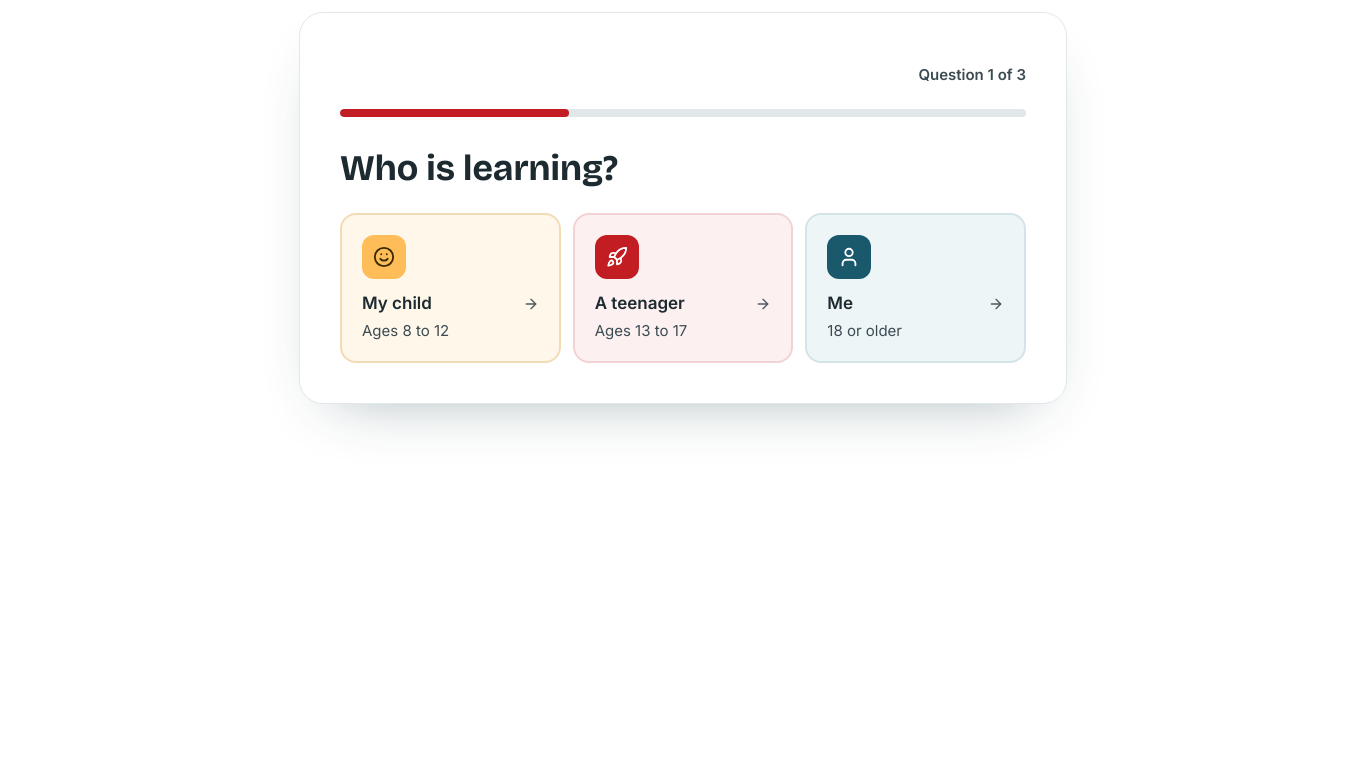
course finder › asks three questions, then links to the matching course's enrol section
Click the button "My child Ages 8 to 12": (450, 288) [340,213,561,363]
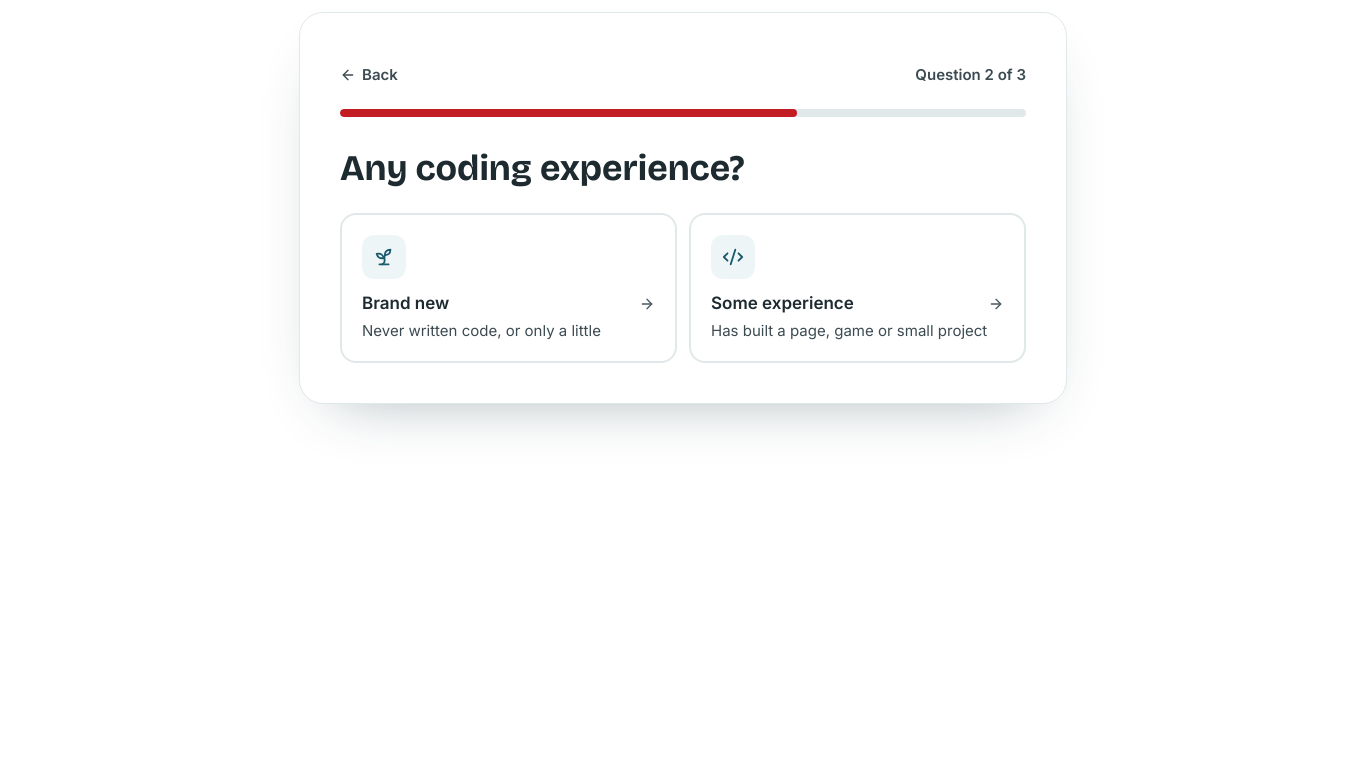
Check: the text "Any coding experience?" is shown, box [340,147,744,190]
Click the button "Brand new Never written code, or only a little": (384, 257) [340,213,677,363]
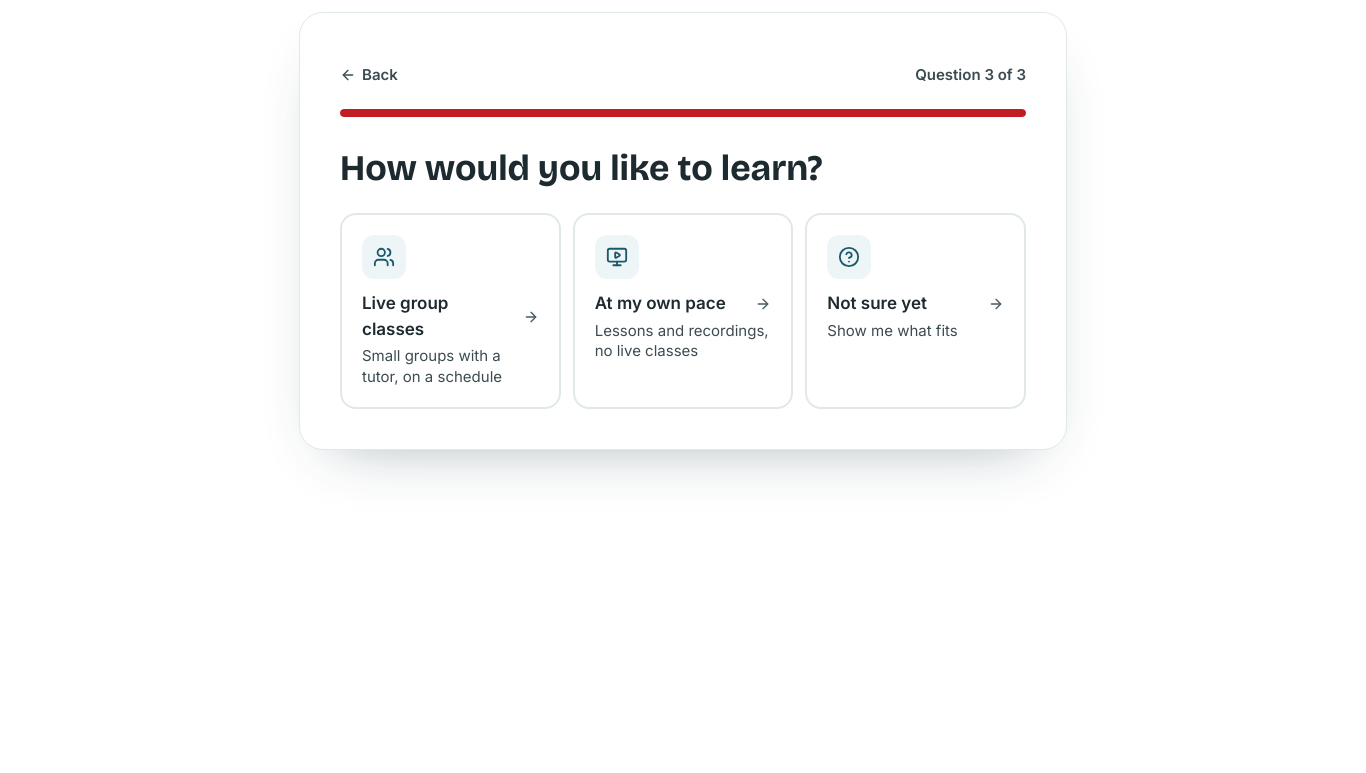
Click the button "Live group classes Small groups with a tutor, on a schedule": (450, 311) [340,213,561,409]
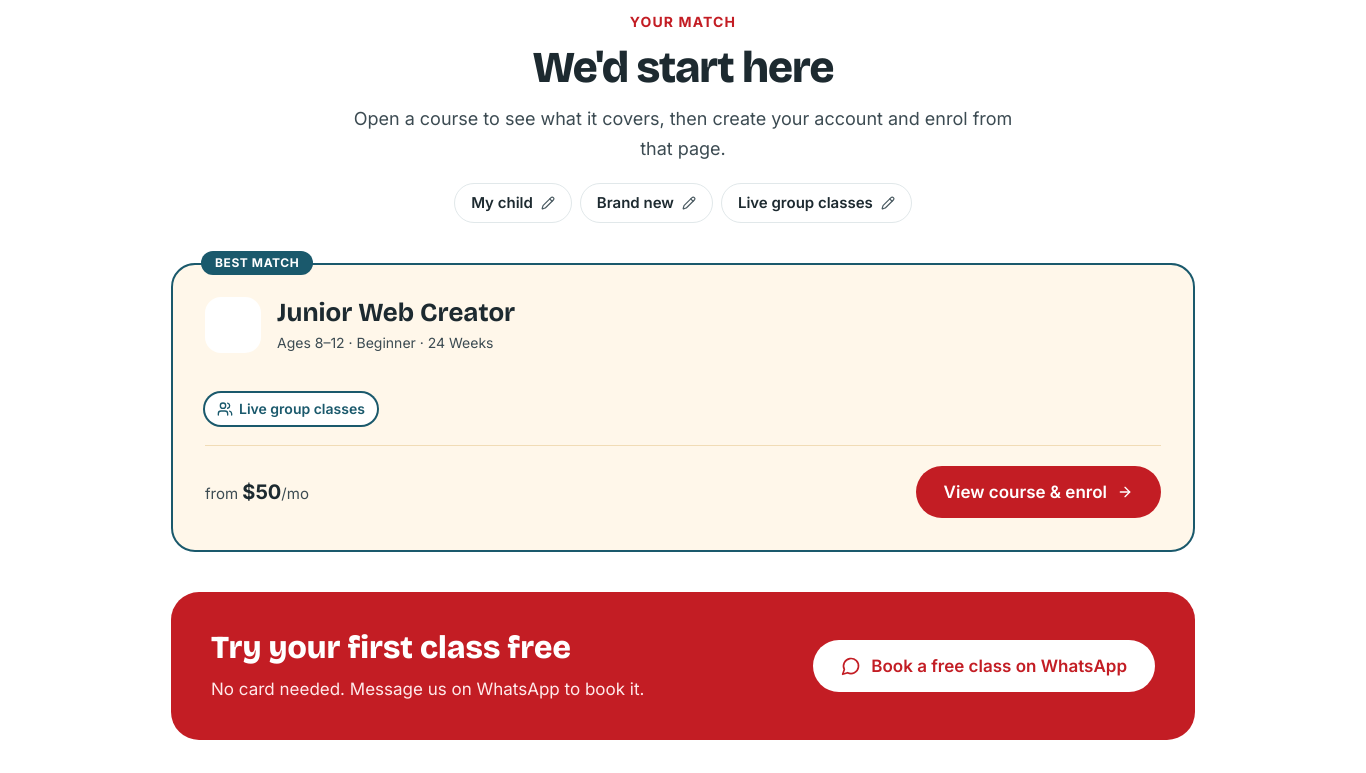
Check: the text "Best match" is shown, box [201,251,313,275]
